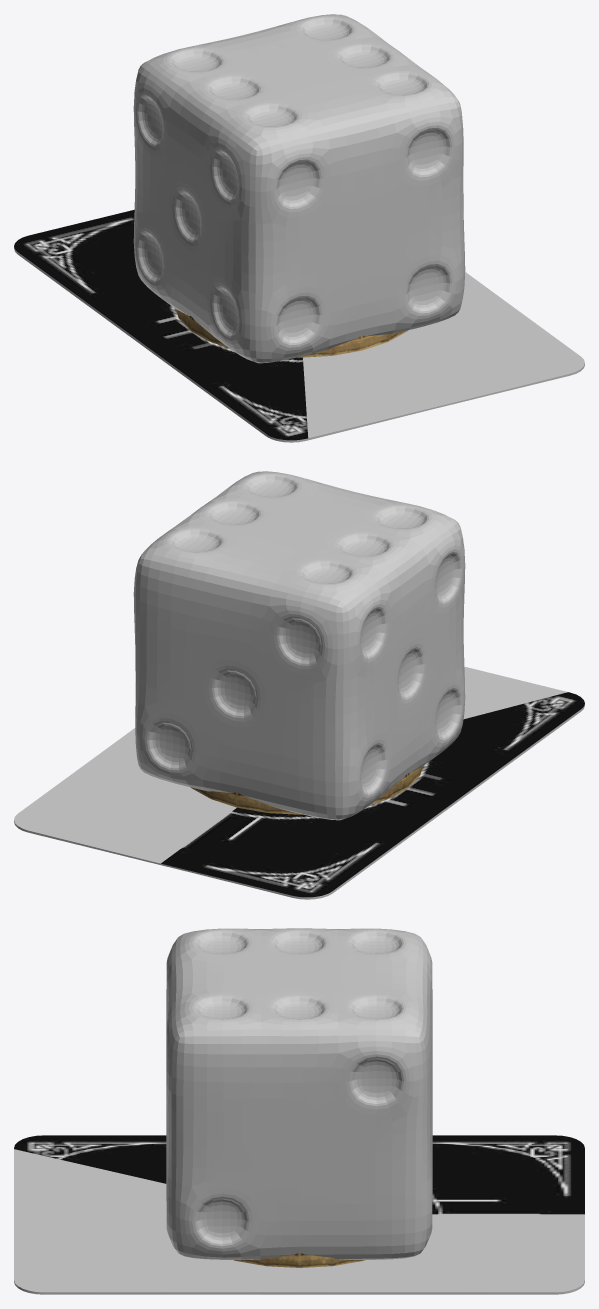
Rendered from Models.fbx.
3 views of the same model, one above another, from view 1: azimuth 30°, elevation 25°; view 2: azimuth 150°, elevation 25°; view 3: azimuth 270°, elevation 25° (orthographic). The views are drawn at different scales.
Visible parts, largest first — view 1: Dice, Blank, Diamond_4, Spade_4, Spade_10, Coin, Club_5, Spade_Ace, Diamond_Jack; view 2: Dice, Blank, Club_4, Diamond_10, Diamond_7, Diamond_3, Spade_3, Spade_10, Coin, Diamond_4, Spade_Ace, Heart_4; view 3: Dice, Club_4, Blank, Club_5, Diamond_3, Spade_10, Heart_2, Spade_Queen, Spade_Ace, Spade_3, Diamond_7, Spade_5 (+8 smaller).
Boxes of the visible parts, x1,y1,x2,y2 form: Dice: [133, 14, 465, 363]; Blank: [14, 209, 583, 440]; Diamond_4: [379, 272, 579, 396]; Spade_4: [306, 345, 478, 438]; Spade_10: [304, 346, 422, 437]; Coin: [176, 309, 407, 357]; Club_5: [464, 272, 581, 369]; Spade_Ace: [303, 346, 477, 409]; Diamond_Jack: [466, 274, 584, 371]; Dice: [133, 471, 465, 820]; Blank: [22, 692, 584, 897]; Club_4: [15, 728, 236, 862]; Diamond_10: [14, 728, 236, 862]; Diamond_7: [16, 728, 230, 858]; Diamond_3: [14, 729, 235, 859]; Spade_3: [31, 667, 584, 899]; Spade_10: [464, 667, 565, 716]; Coin: [191, 766, 422, 814]; Diamond_4: [15, 740, 169, 862]; Spade_Ace: [464, 667, 551, 718]; Heart_4: [24, 830, 321, 899]; Dice: [166, 928, 432, 1259]; Club_4: [14, 1214, 575, 1292]; Blank: [14, 1135, 584, 1294]; Club_5: [14, 1214, 567, 1292]; Diamond_3: [14, 1214, 580, 1292]; Spade_10: [14, 1149, 166, 1234]; Heart_2: [14, 1224, 331, 1286]; Spade_Queen: [14, 1150, 166, 1234]; Spade_Ace: [14, 1149, 166, 1232]; Spade_3: [14, 1151, 166, 1227]; Diamond_7: [19, 1214, 584, 1291]; Spade_5: [14, 1149, 166, 1216].
Size of what is drawn, in the model's own units: 5.82 by 4.16 by 8.89.
